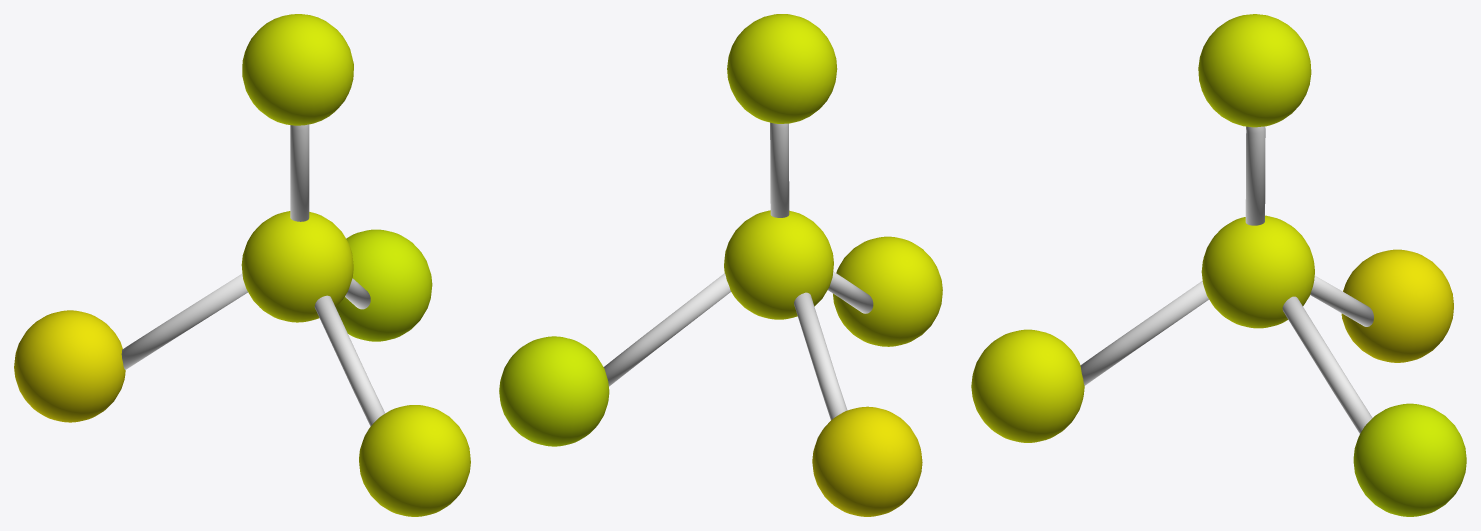
3 renders of one model, left to right at view 1: azimuth 30°, elevation 25°; view 2: azimuth 150°, elevation 25°; view 3: azimuth 270°, elevation 25°, orthographic. The views are drawn at different scales.
Visible parts, largest first — view 1: Cylinder.003; view 2: Cylinder.003; view 3: Cylinder.003.
Part boxes in pixels (<box>): Cylinder.003: <box>14,14,470,516</box>; Cylinder.003: <box>499,14,942,516</box>; Cylinder.003: <box>971,14,1466,516</box>.
Bounding box in the file's own units: 0.7511 × 0.7221 × 0.7791.
